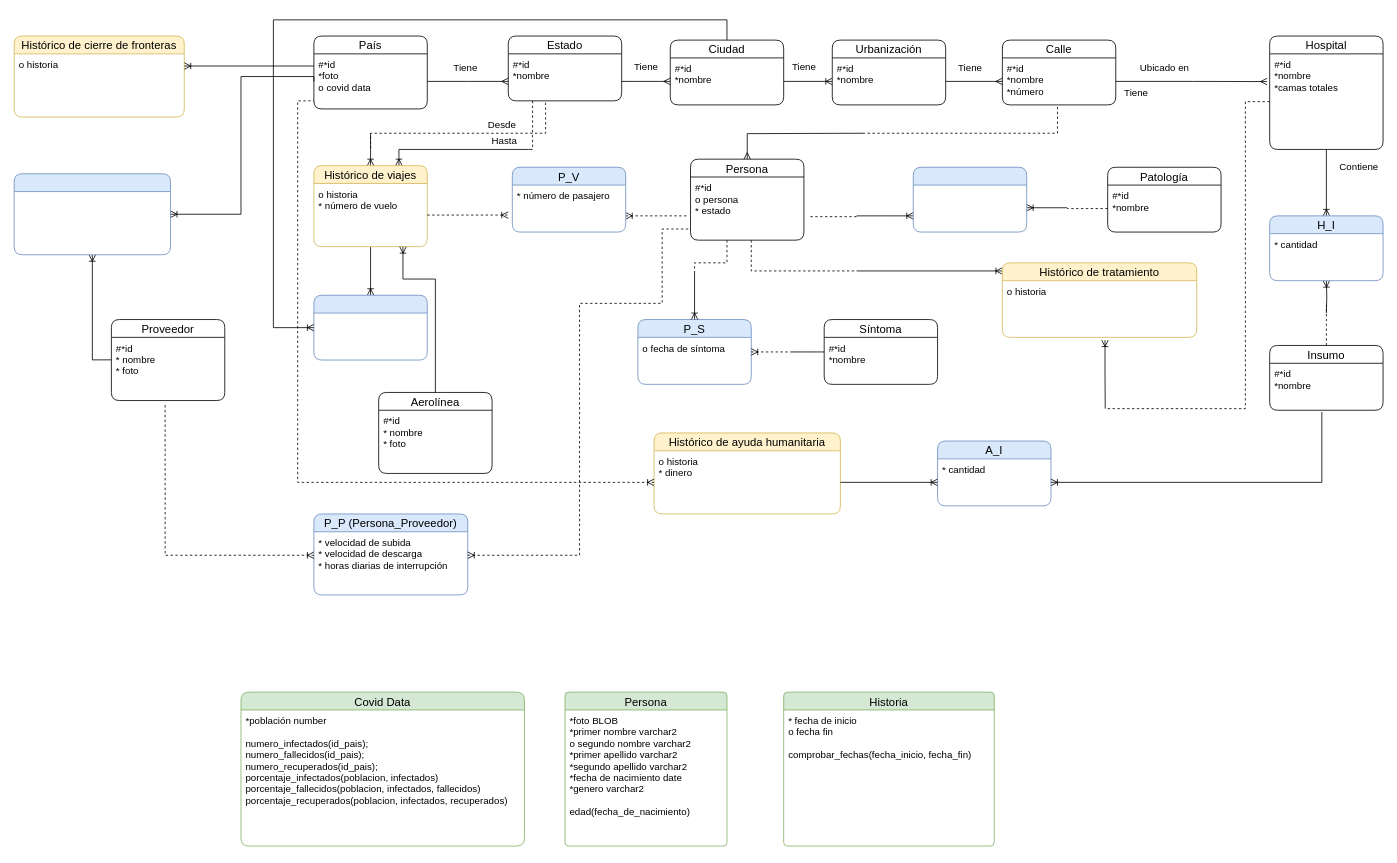
The diagram is 1397 pixels wide and 863 high, and some of its shapes have lost their labels. The shapes that lost their labels are listed below. From the top down, each one's centre as x and y in pixels, then its label:
At point (92, 214): "P_P (País_Proveedor)".
At point (969, 199): "P_P".
At point (370, 327): "C_HV (Visitas)".
